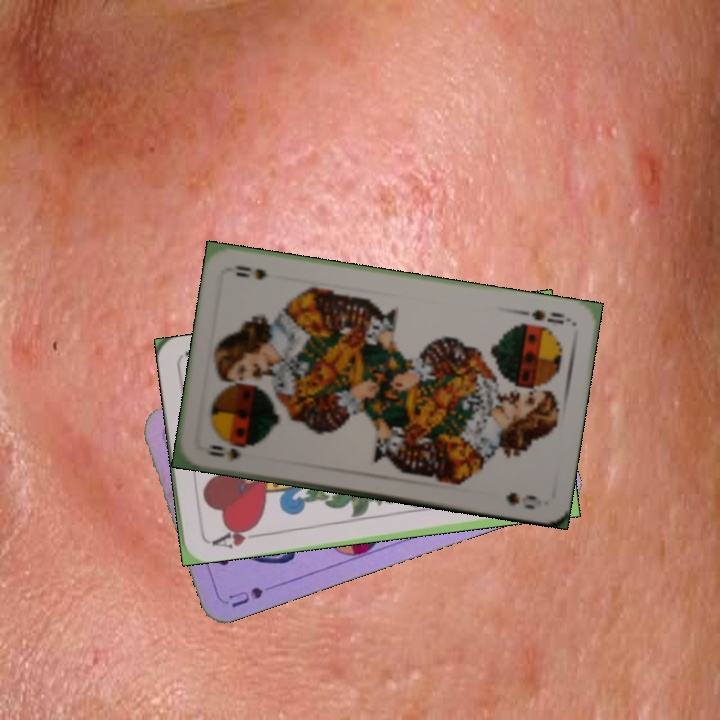HA: (204, 521, 264, 551)
SO: (515, 305, 574, 327), (200, 441, 244, 465)
SU: (224, 582, 266, 610)
